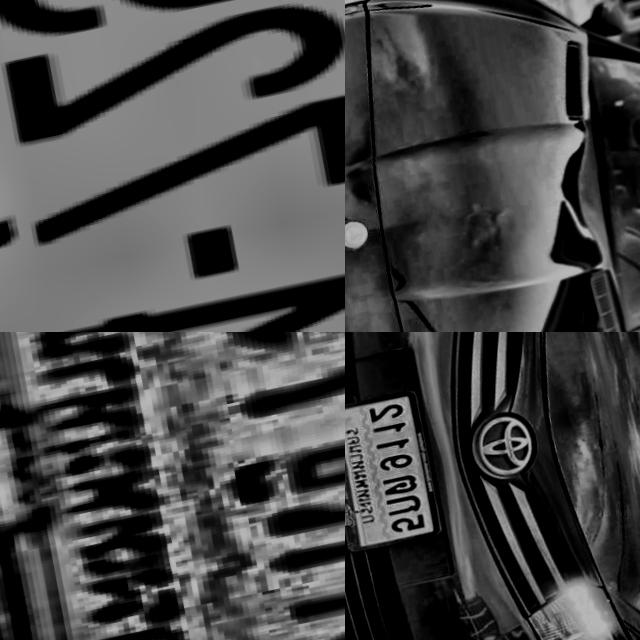license-plate: (0, 0, 345, 332), (0, 332, 345, 640), (345, 382, 457, 560)
